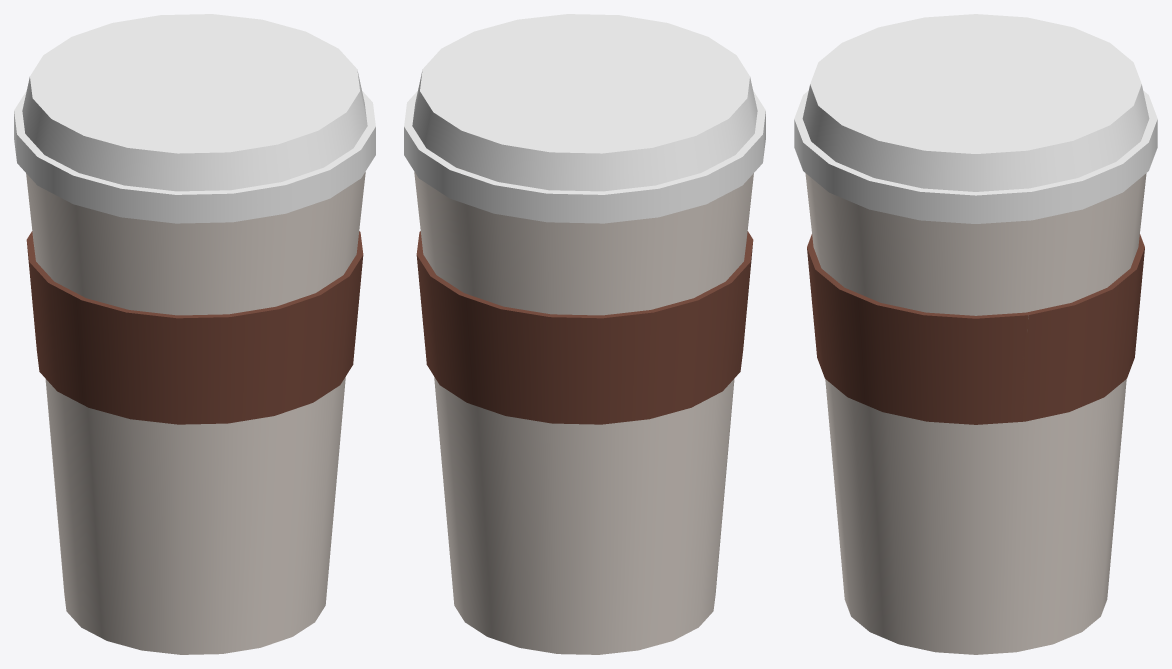
The model's file is SM_CoffeeCup.fbx.
3 views of the same model, side by side, from view 1: azimuth 30°, elevation 25°; view 2: azimuth 150°, elevation 25°; view 3: azimuth 270°, elevation 25° (orthographic).
Parts seen in each view (by area): view 1: Coffee_Cup; view 2: Coffee_Cup; view 3: Coffee_Cup.
Part boxes in pixels (x1=…): Coffee_Cup: x1=14, y1=14, x2=375, y2=654; Coffee_Cup: x1=404, y1=14, x2=765, y2=654; Coffee_Cup: x1=794, y1=14, x2=1157, y2=654.
Bounding box in the file's own units: 11.45 × 17.91 × 11.45.
